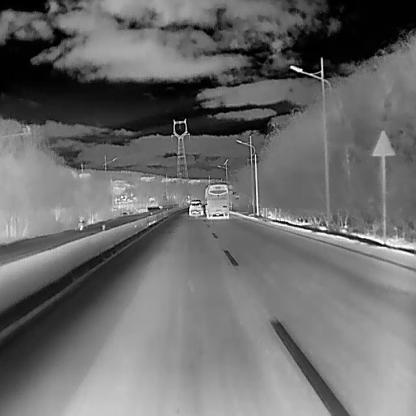bus: (204, 181, 230, 221)
car: (188, 198, 204, 218)
